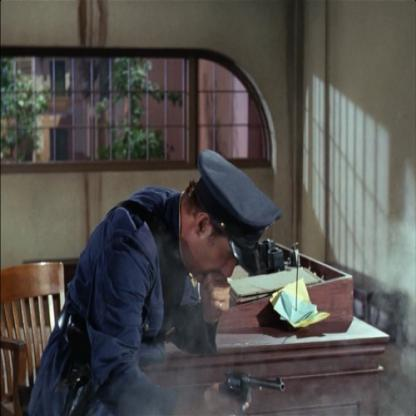Gun: (213, 367, 286, 413)
